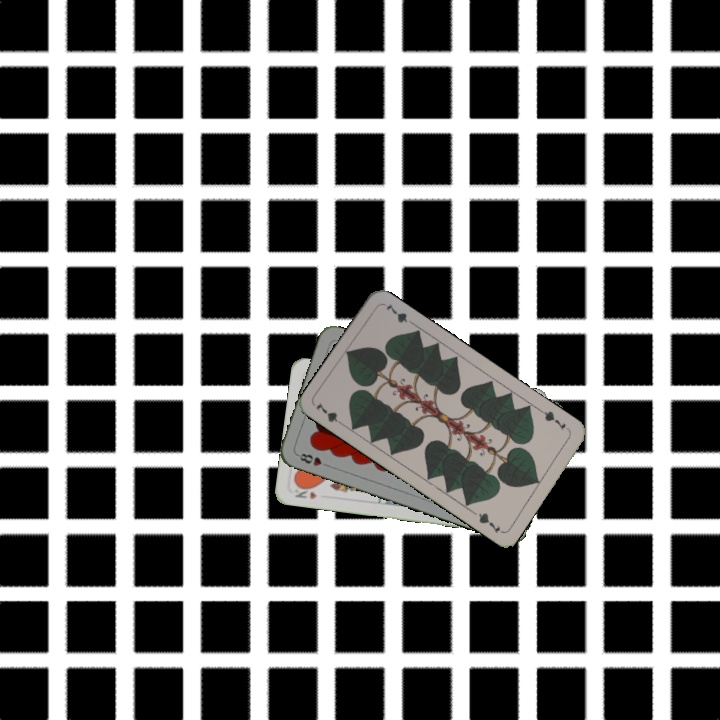G7: (311, 398, 348, 429), (536, 406, 568, 432)
H8: (293, 449, 333, 470)
HK: (291, 482, 319, 501)
